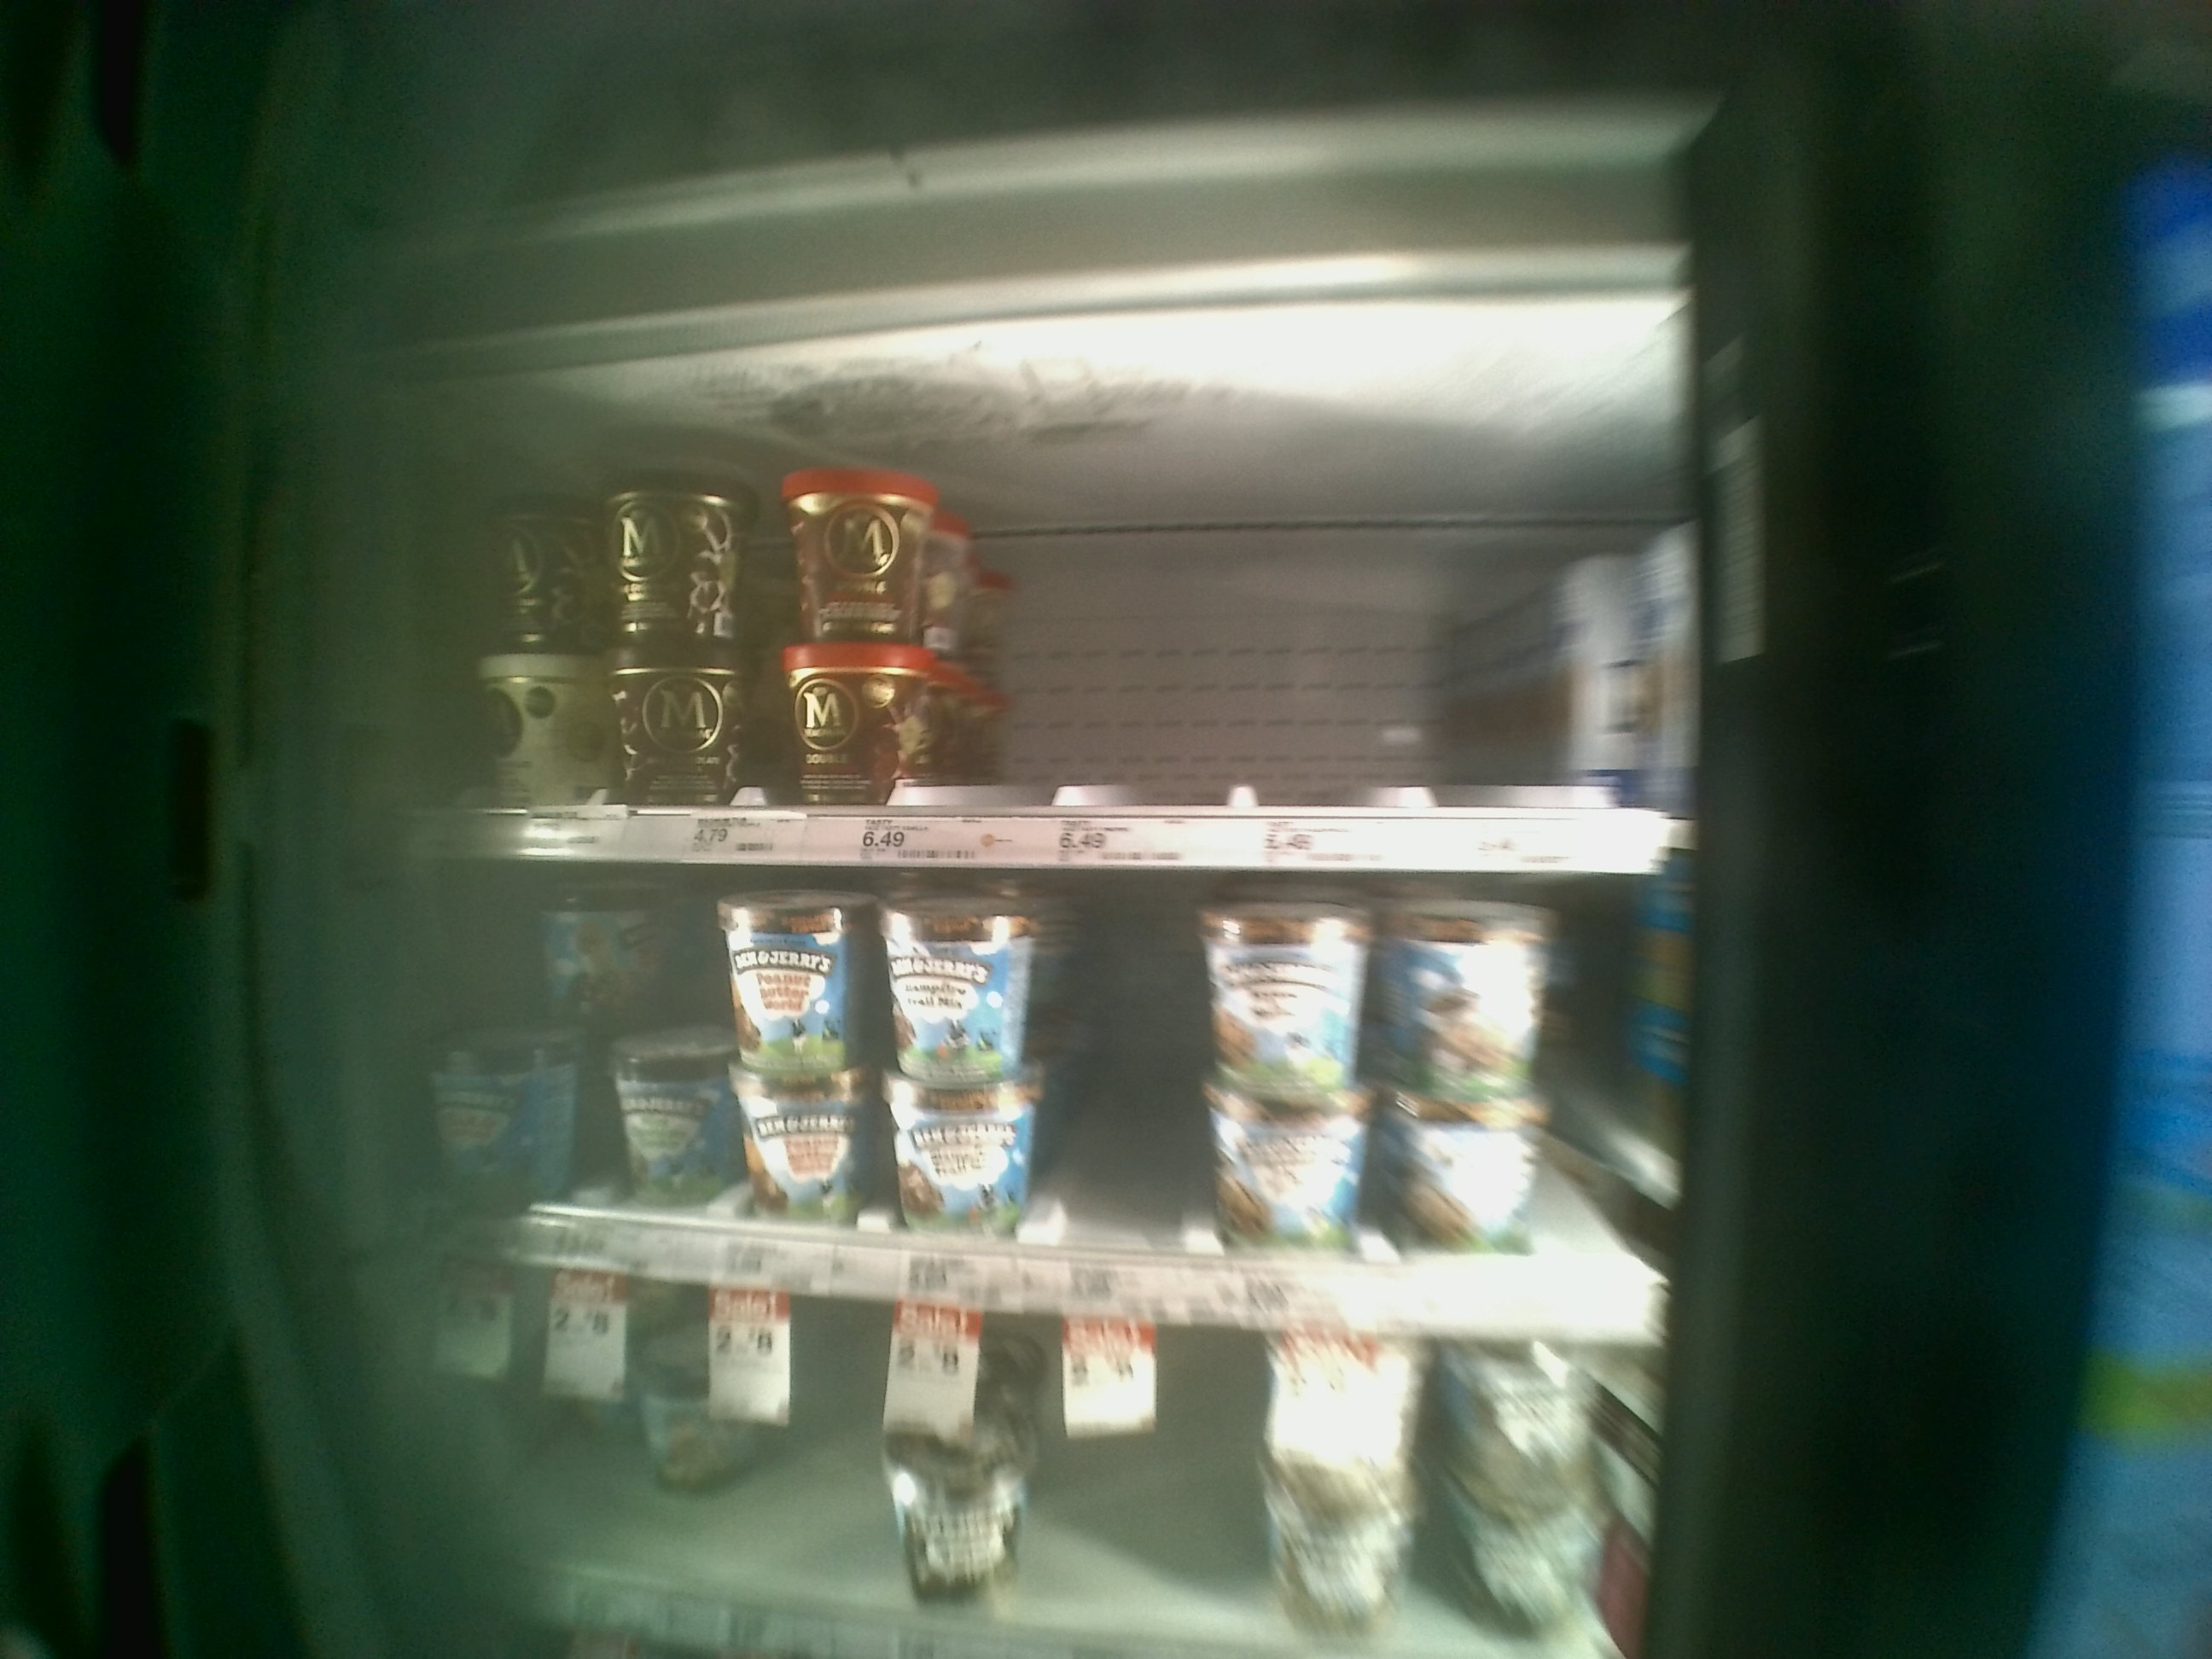shelf: (383, 859, 1684, 1361), (392, 441, 1703, 859)
